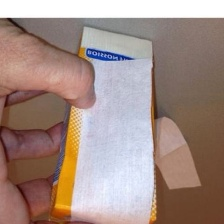carton: (45, 21, 160, 224)
